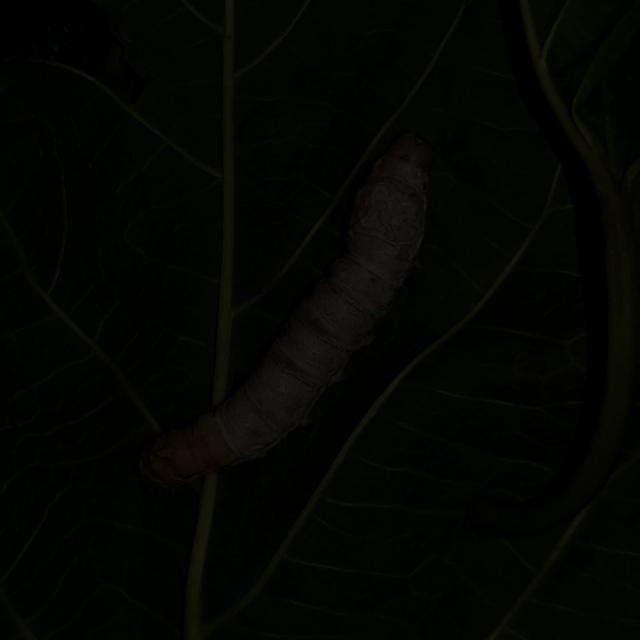Grasserie: (120, 117, 472, 508)
